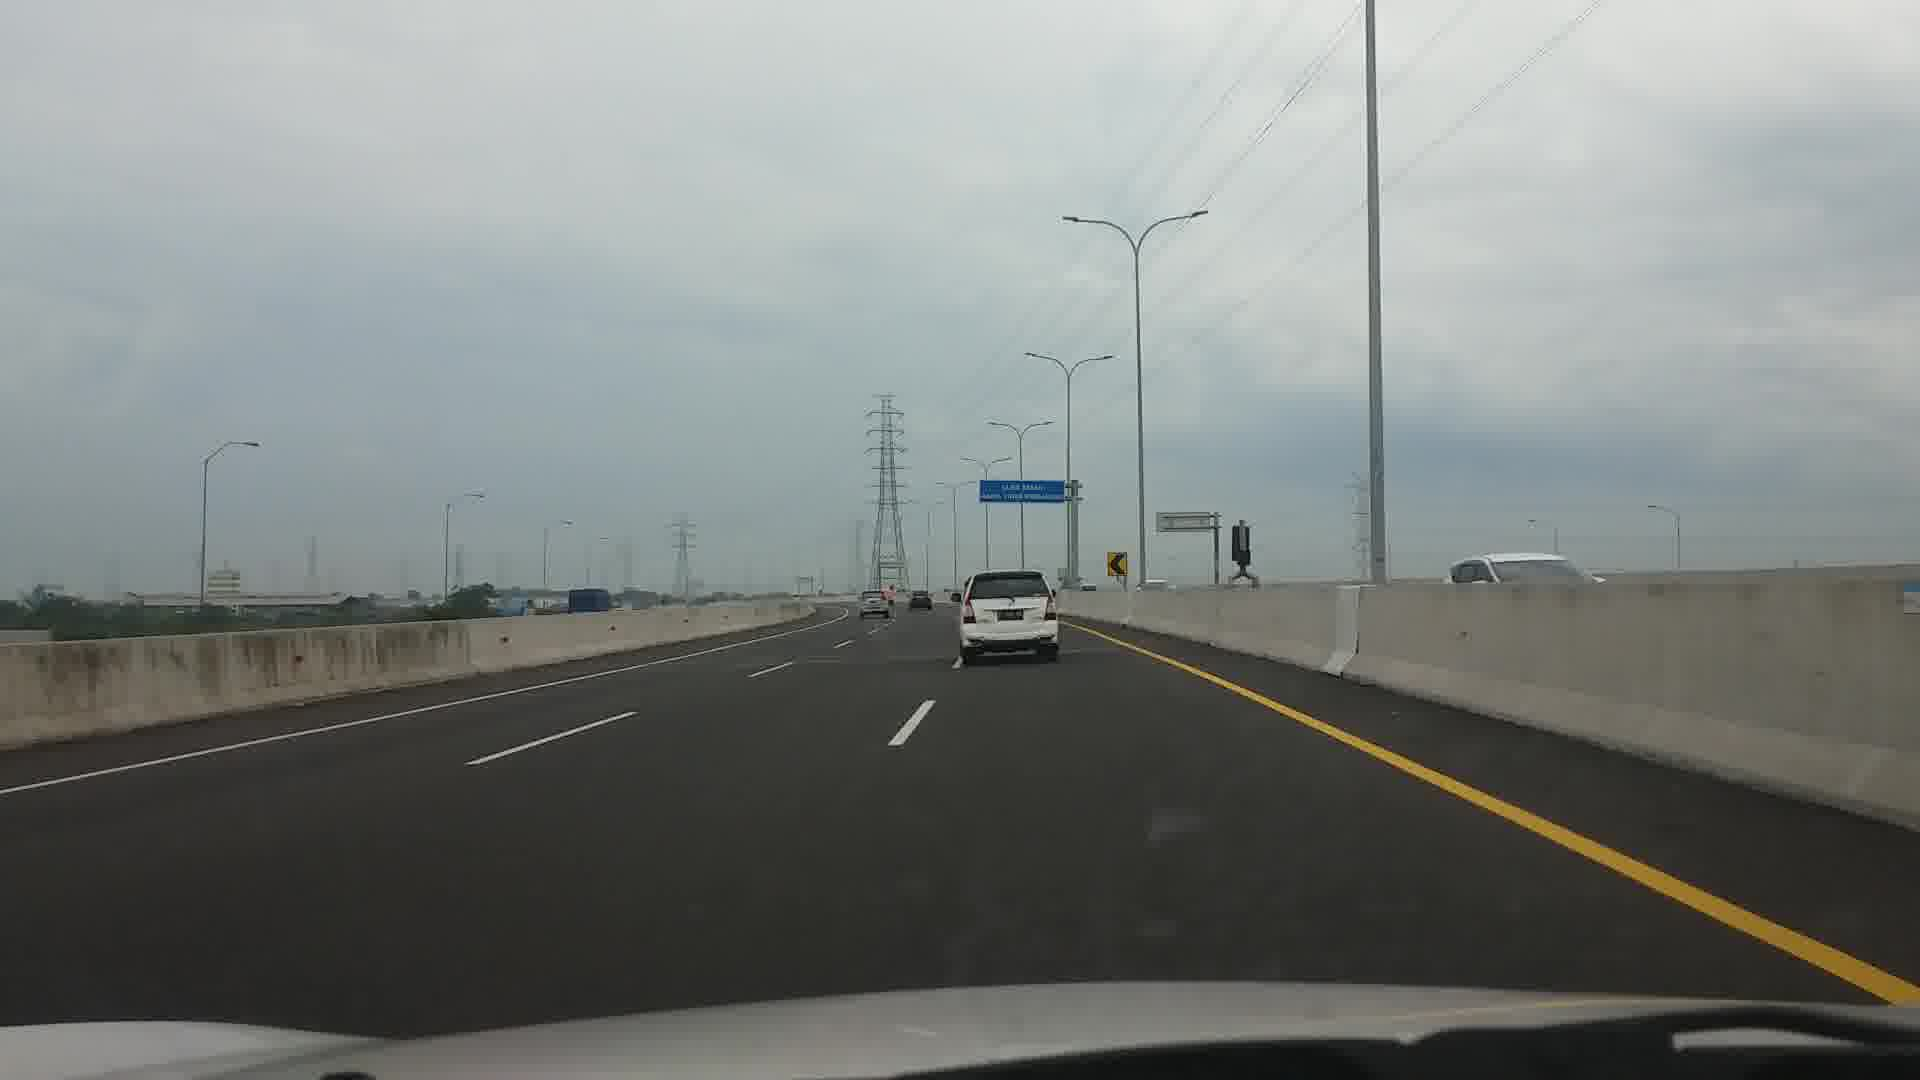plate_positive: (998, 611, 1025, 621)
